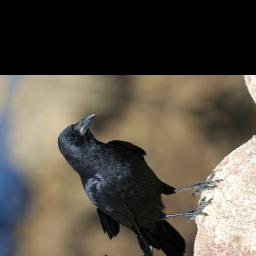Crow: (31, 106, 236, 256)
